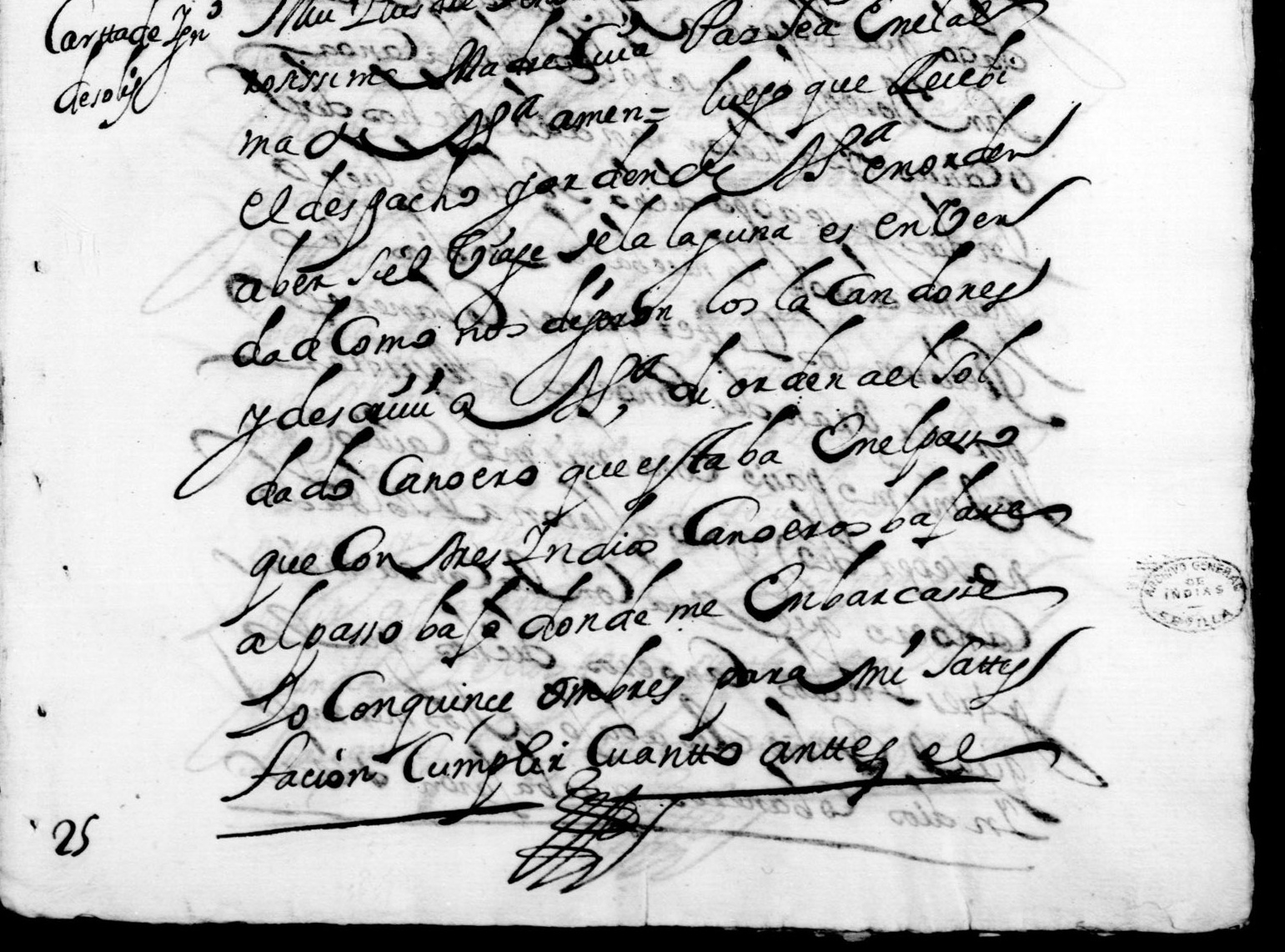lacandon: (775, 240, 1051, 312)
